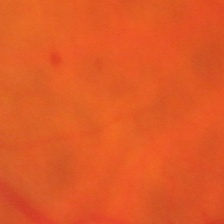MA: (50, 52, 61, 65), (93, 59, 104, 70)
